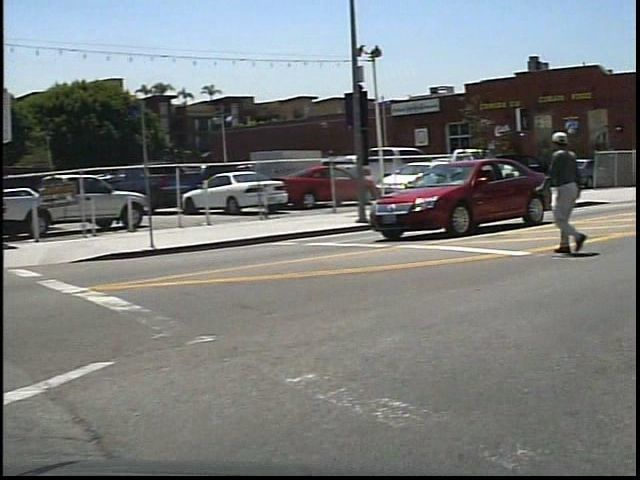person: (544, 116, 601, 261)
